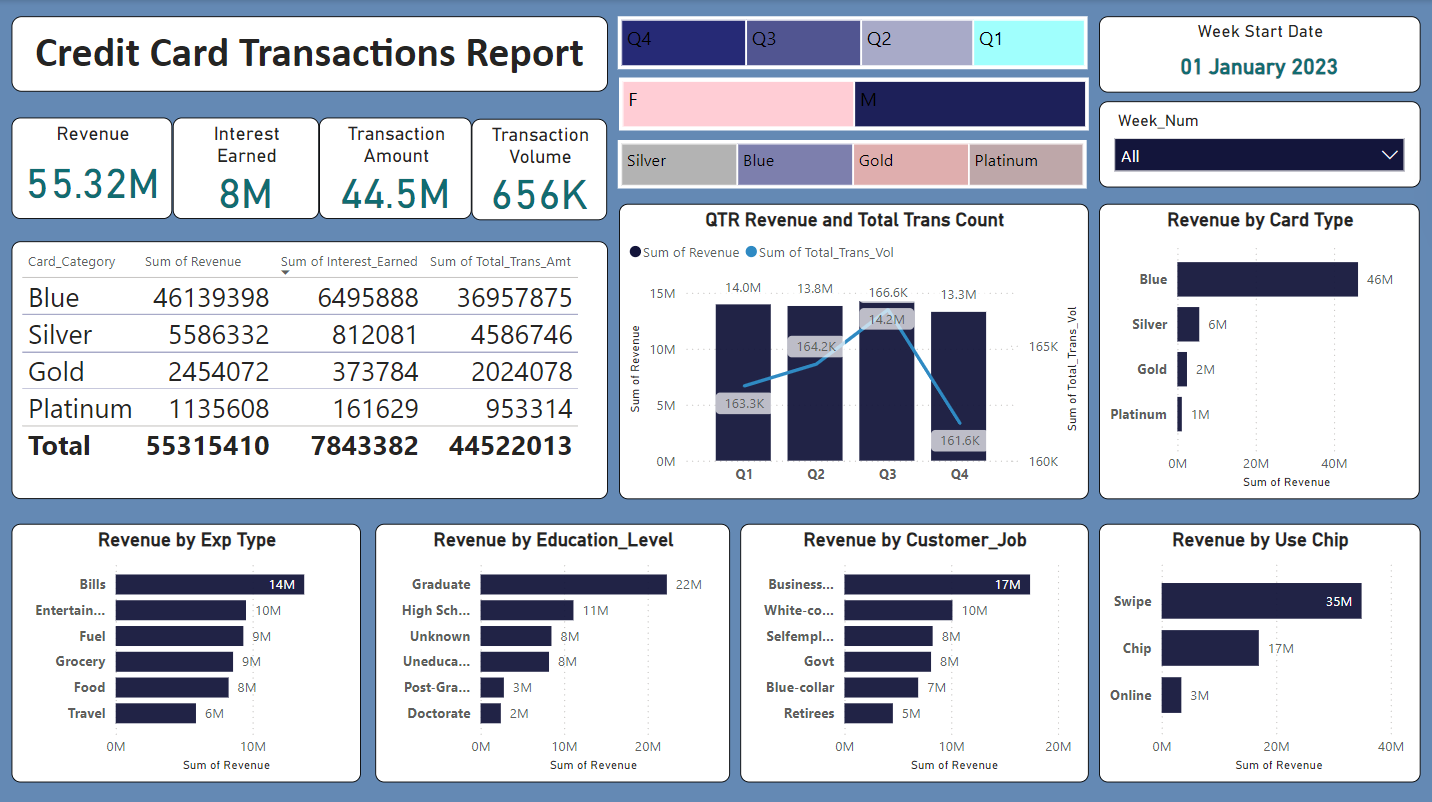

The dashboard page shown, as its layout file describes it:
{"tool":"powerbi","page":{"name":"CC_Transactions","canvas":[1280,720],"ordinal":0},"visuals":[{"type":"textbox","box":[10.9,14.5,530.8,67.6],"z":0},{"type":"lineStackedColumnComboChart","title":"QTR Revenue and Total Trans Count","fields":{"Category":["credit_card.Qtr"],"Y":["Sum(credit_card.Revenue)"],"Y2":["Sum(credit_card.Total_Trans_Vol)"]},"box":[552.5,181,418.6,263],"z":1000},{"type":"clusteredBarChart","title":"Revenue by Exp Type","fields":{"Category":["credit_card.Exp Type"],"Y":["Sum(credit_card.Revenue)"]},"box":[10.9,465.9,311.3,230.4],"z":2000},{"type":"clusteredBarChart","title":"Revenue by Education_Level","fields":{"Y":["Sum(credit_card.Revenue)"],"Category":["customer.Education_Level"]},"box":[335.4,465.9,316.1,230.4],"z":3000},{"type":"clusteredBarChart","title":"Revenue by Customer_Job","fields":{"Y":["Sum(credit_card.Revenue)"],"Category":["customer.Customer_Job"]},"box":[659.9,465.9,310.1,230.4],"z":4000},{"type":"clusteredBarChart","title":"Revenue by Card Type","fields":{"Y":["Sum(credit_card.Revenue)"],"Category":["credit_card.Card_Category"]},"box":[979.6,181,285.9,263],"z":5000},{"type":"clusteredBarChart","title":"Revenue by Use Chip","fields":{"Y":["Sum(credit_card.Revenue)"],"Category":["credit_card.Use Chip"]},"box":[980,466,286,230],"z":6000},{"type":"tableEx","fields":{"Values":["credit_card.Card_Category","Sum(credit_card.Revenue)","Sum(credit_card.Interest_Earned)","Sum(credit_card.Total_Trans_Amt)"]},"box":[10.9,214.7,530.8,229.2],"z":7000},{"type":"card","title":"Revenue","fields":{"Values":["Sum(credit_card.Revenue)"]},"box":[10.9,105,143.6,90.5],"z":8000},{"type":"card","title":"Transaction Amount","fields":{"Values":["Sum(credit_card.Total_Trans_Amt)"]},"box":[284.7,105,136.3,90.5],"z":9000},{"type":"card","title":"Transaction Volume","fields":{"Values":["Sum(credit_card.Total_Trans_Vol)"]},"box":[421.3,105.4,121,90],"z":10000},{"type":"card","title":"Interest Earned","fields":{"Values":["Sum(credit_card.Interest_Earned)"]},"box":[154.4,105,130.3,90.5],"z":11000},{"type":"slicer","fields":{"Values":["credit_card.Week_Num"]},"box":[980,90,286,77],"z":12000},{"type":"card","title":"Week Start Date","fields":{"Values":["Min(credit_card.Week_Start_Date)"]},"box":[980,14,286,68],"z":13000},{"type":"treemap","fields":{"Group":["credit_card.Qtr"],"Values":["Avg(credit_card.Client_Num)"]},"box":[551.3,14.5,418.6,47.1],"z":14000},{"type":"treemap","fields":{"Values":["Avg(credit_card.Client_Num)"],"Group":["customer.Gender"]},"box":[552.5,68.8,418.6,47.1],"z":15000},{"type":"treemap","fields":{"Values":["Avg(credit_card.Client_Num)"],"Group":["credit_card.Card_Category"]},"box":[551.3,124.3,417.4,43.4],"z":16000}]}

Visuals, with their boxes in screenshot pixels (x1, y1, x2, y2), scaled from the page's 1280x720 canvas onto the 1432x802 screenshot:
textbox: 12, 16, 606, 91
"QTR Revenue and Total Trans Count" lineStackedColumnComboChart: 618, 202, 1086, 495
"Revenue by Exp Type" clusteredBarChart: 12, 519, 360, 776
"Revenue by Education_Level" clusteredBarChart: 375, 519, 729, 776
"Revenue by Customer_Job" clusteredBarChart: 738, 519, 1085, 776
"Revenue by Card Type" clusteredBarChart: 1096, 202, 1416, 495
"Revenue by Use Chip" clusteredBarChart: 1096, 519, 1416, 775
tableEx - credit_card.Card_Category x Sum(credit_card.Revenue): 12, 239, 606, 494
"Revenue" card: 12, 117, 173, 218
"Transaction Amount" card: 319, 117, 471, 218
"Transaction Volume" card: 471, 117, 607, 218
"Interest Earned" card: 173, 117, 319, 218
slicer - credit_card.Week_Num: 1096, 100, 1416, 186
"Week Start Date" card: 1096, 16, 1416, 91
treemap - credit_card.Qtr x Avg(credit_card.Client_Num): 617, 16, 1085, 69
treemap - Avg(credit_card.Client_Num) x customer.Gender: 618, 77, 1086, 129
treemap - Avg(credit_card.Client_Num) x credit_card.Card_Category: 617, 138, 1084, 187
